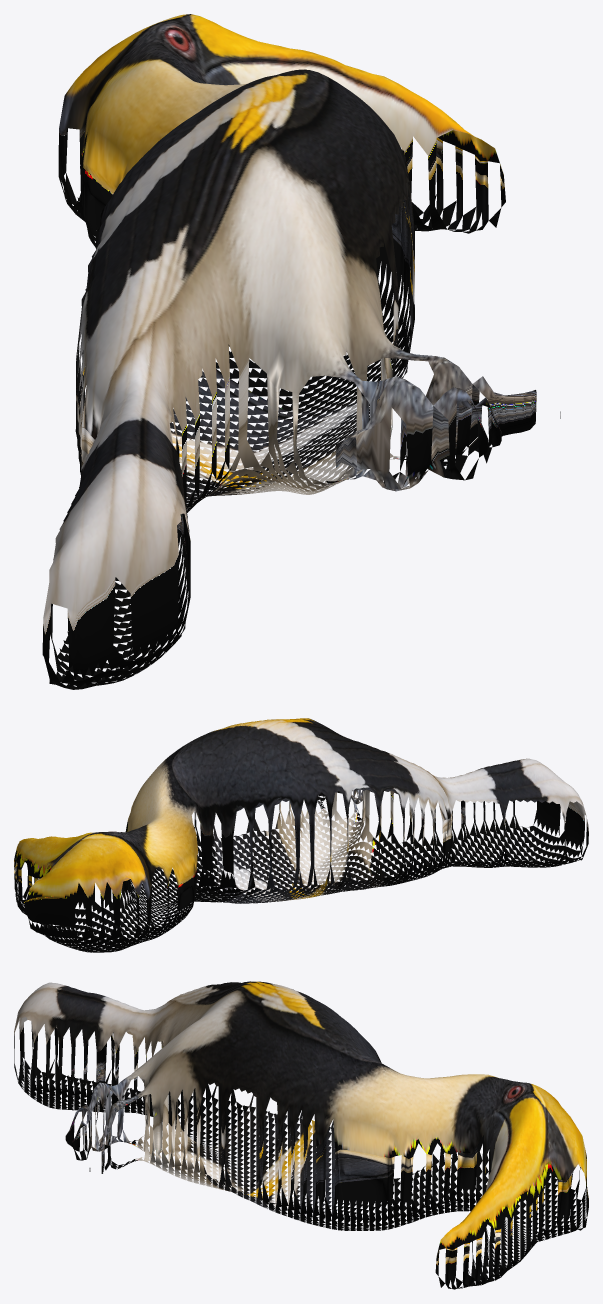
The model's file is hornbill.glb.
3 renders of one model, top to bottom at view 1: azimuth 30°, elevation 25°; view 2: azimuth 150°, elevation 25°; view 3: azimuth 270°, elevation 25°, orthographic. The views are drawn at different scales.
Parts seen in each view (by area): view 1: hornbill_obj; view 2: hornbill_obj; view 3: hornbill_obj.
Part boxes in pixels (bbox=[...]): hornbill_obj: bbox=[42, 14, 560, 689]; hornbill_obj: bbox=[14, 718, 588, 952]; hornbill_obj: bbox=[14, 981, 588, 1289].
Bounding box in the file's own units: 1.82 × 0.7818 × 1.91.
1 material, 1 textured.
